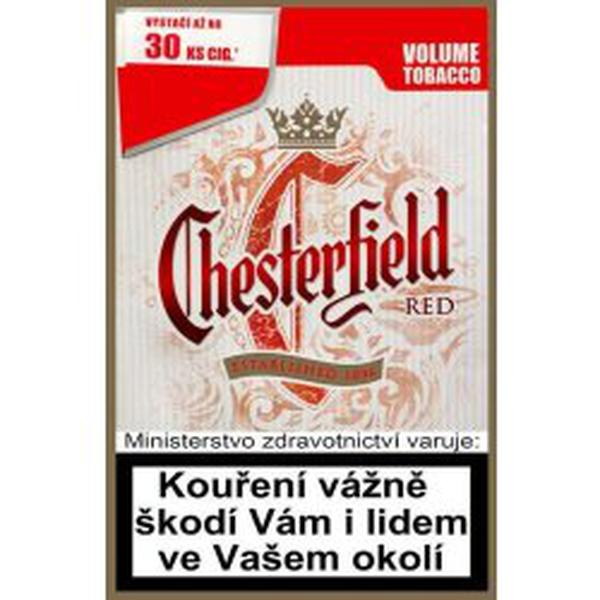chesterfield_red: (115, 12, 485, 589)
